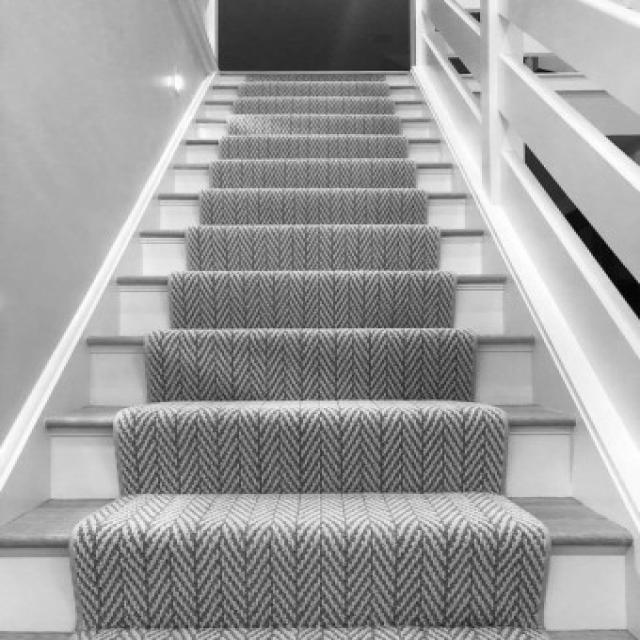stair: (73, 72, 547, 629)
